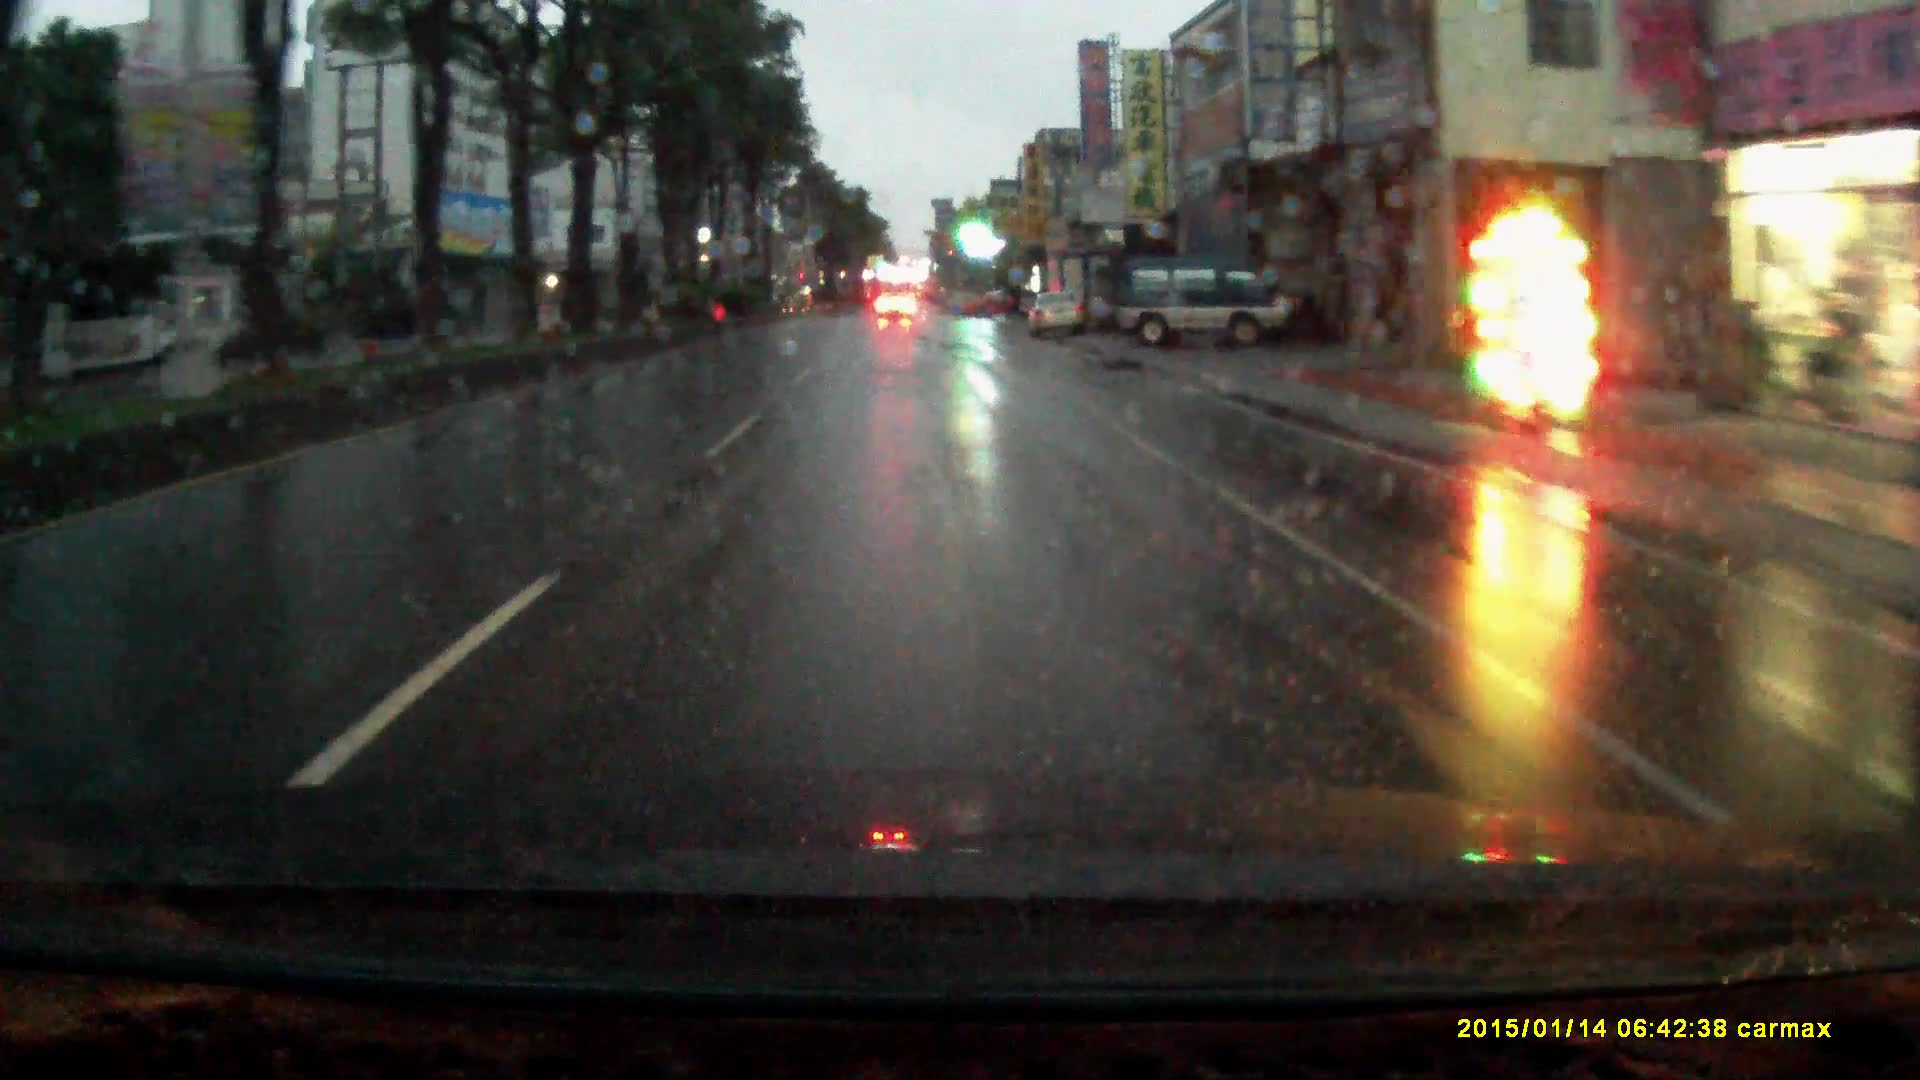vehicle: (1110, 258, 1303, 353), (1043, 248, 1116, 336), (1029, 291, 1088, 342), (876, 294, 916, 324)
